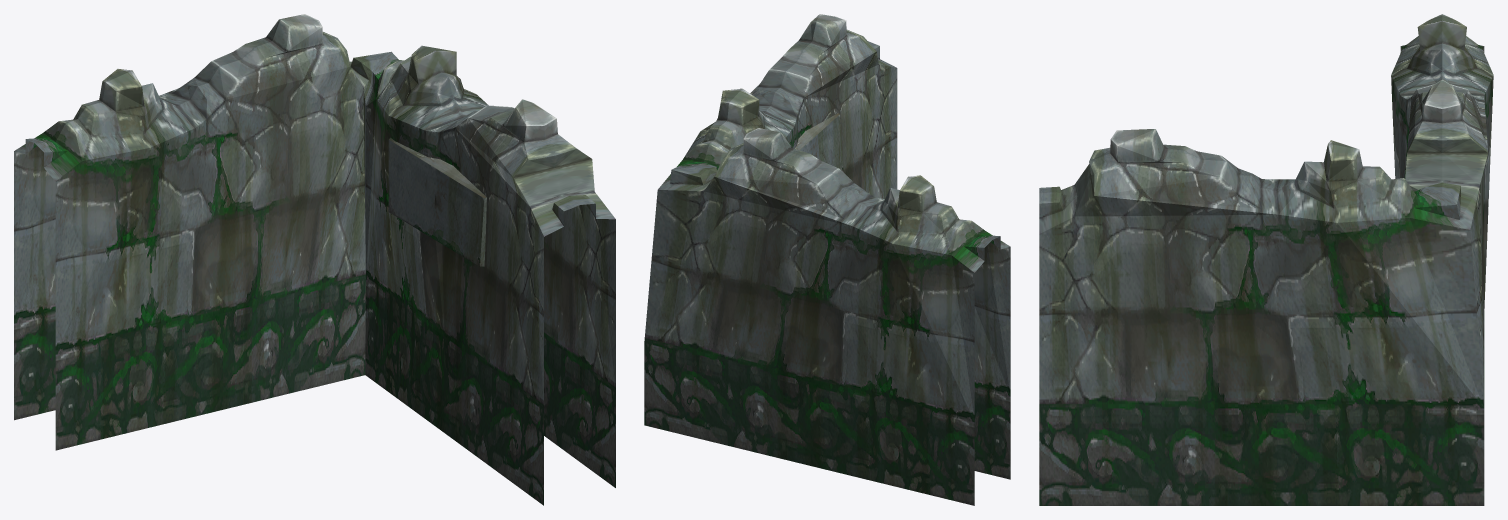
File: stemple_half_concave_01.fbx
The picture shows the model from 3 angles, left to right: view 1: azimuth 30°, elevation 25°; view 2: azimuth 150°, elevation 25°; view 3: azimuth 270°, elevation 25°; orthographic projection. The views are drawn at different scales.
Visible parts, largest first — view 1: obj1.053; view 2: obj1.053; view 3: obj1.053.
Boxes of the visible parts, <box> form: obj1.053: <box>14,14,615,505</box>; obj1.053: <box>644,14,1010,505</box>; obj1.053: <box>1039,14,1493,505</box>.
Bounding box in the file's own units: 4.51 × 3.94 × 4.51.
